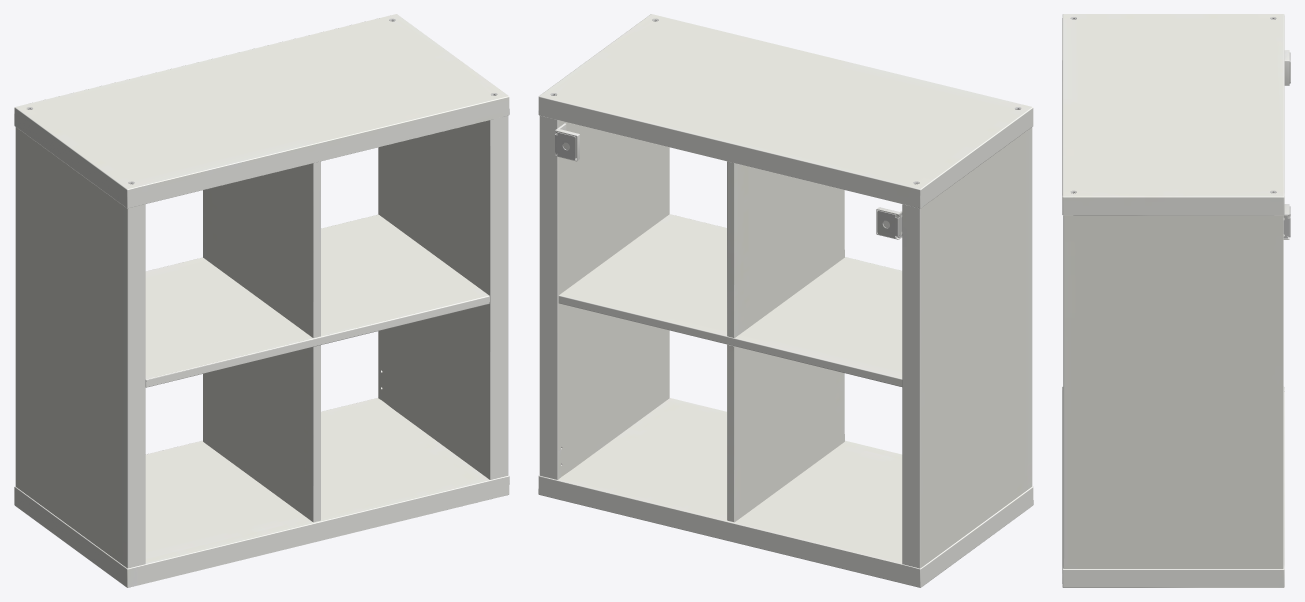
The model's file is Kallax20275814-scene-512.glb.
3 views of the same model, side by side, from view 1: azimuth 30°, elevation 25°; view 2: azimuth 150°, elevation 25°; view 3: azimuth 270°, elevation 25° (orthographic).
Visible parts, largest first — view 1: model; view 2: model; view 3: model.
Boxes of the visible parts, <box> form: model: <box>14,14,509,587</box>; model: <box>538,14,1033,587</box>; model: <box>1062,14,1290,587</box>.
Bounding box in the file's own units: 0.765 × 0.7628 × 0.4025.
Materials: 1 (1 with a texture image).
